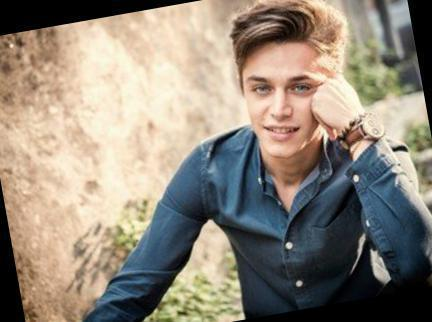Sober: (244, 54, 319, 151)
